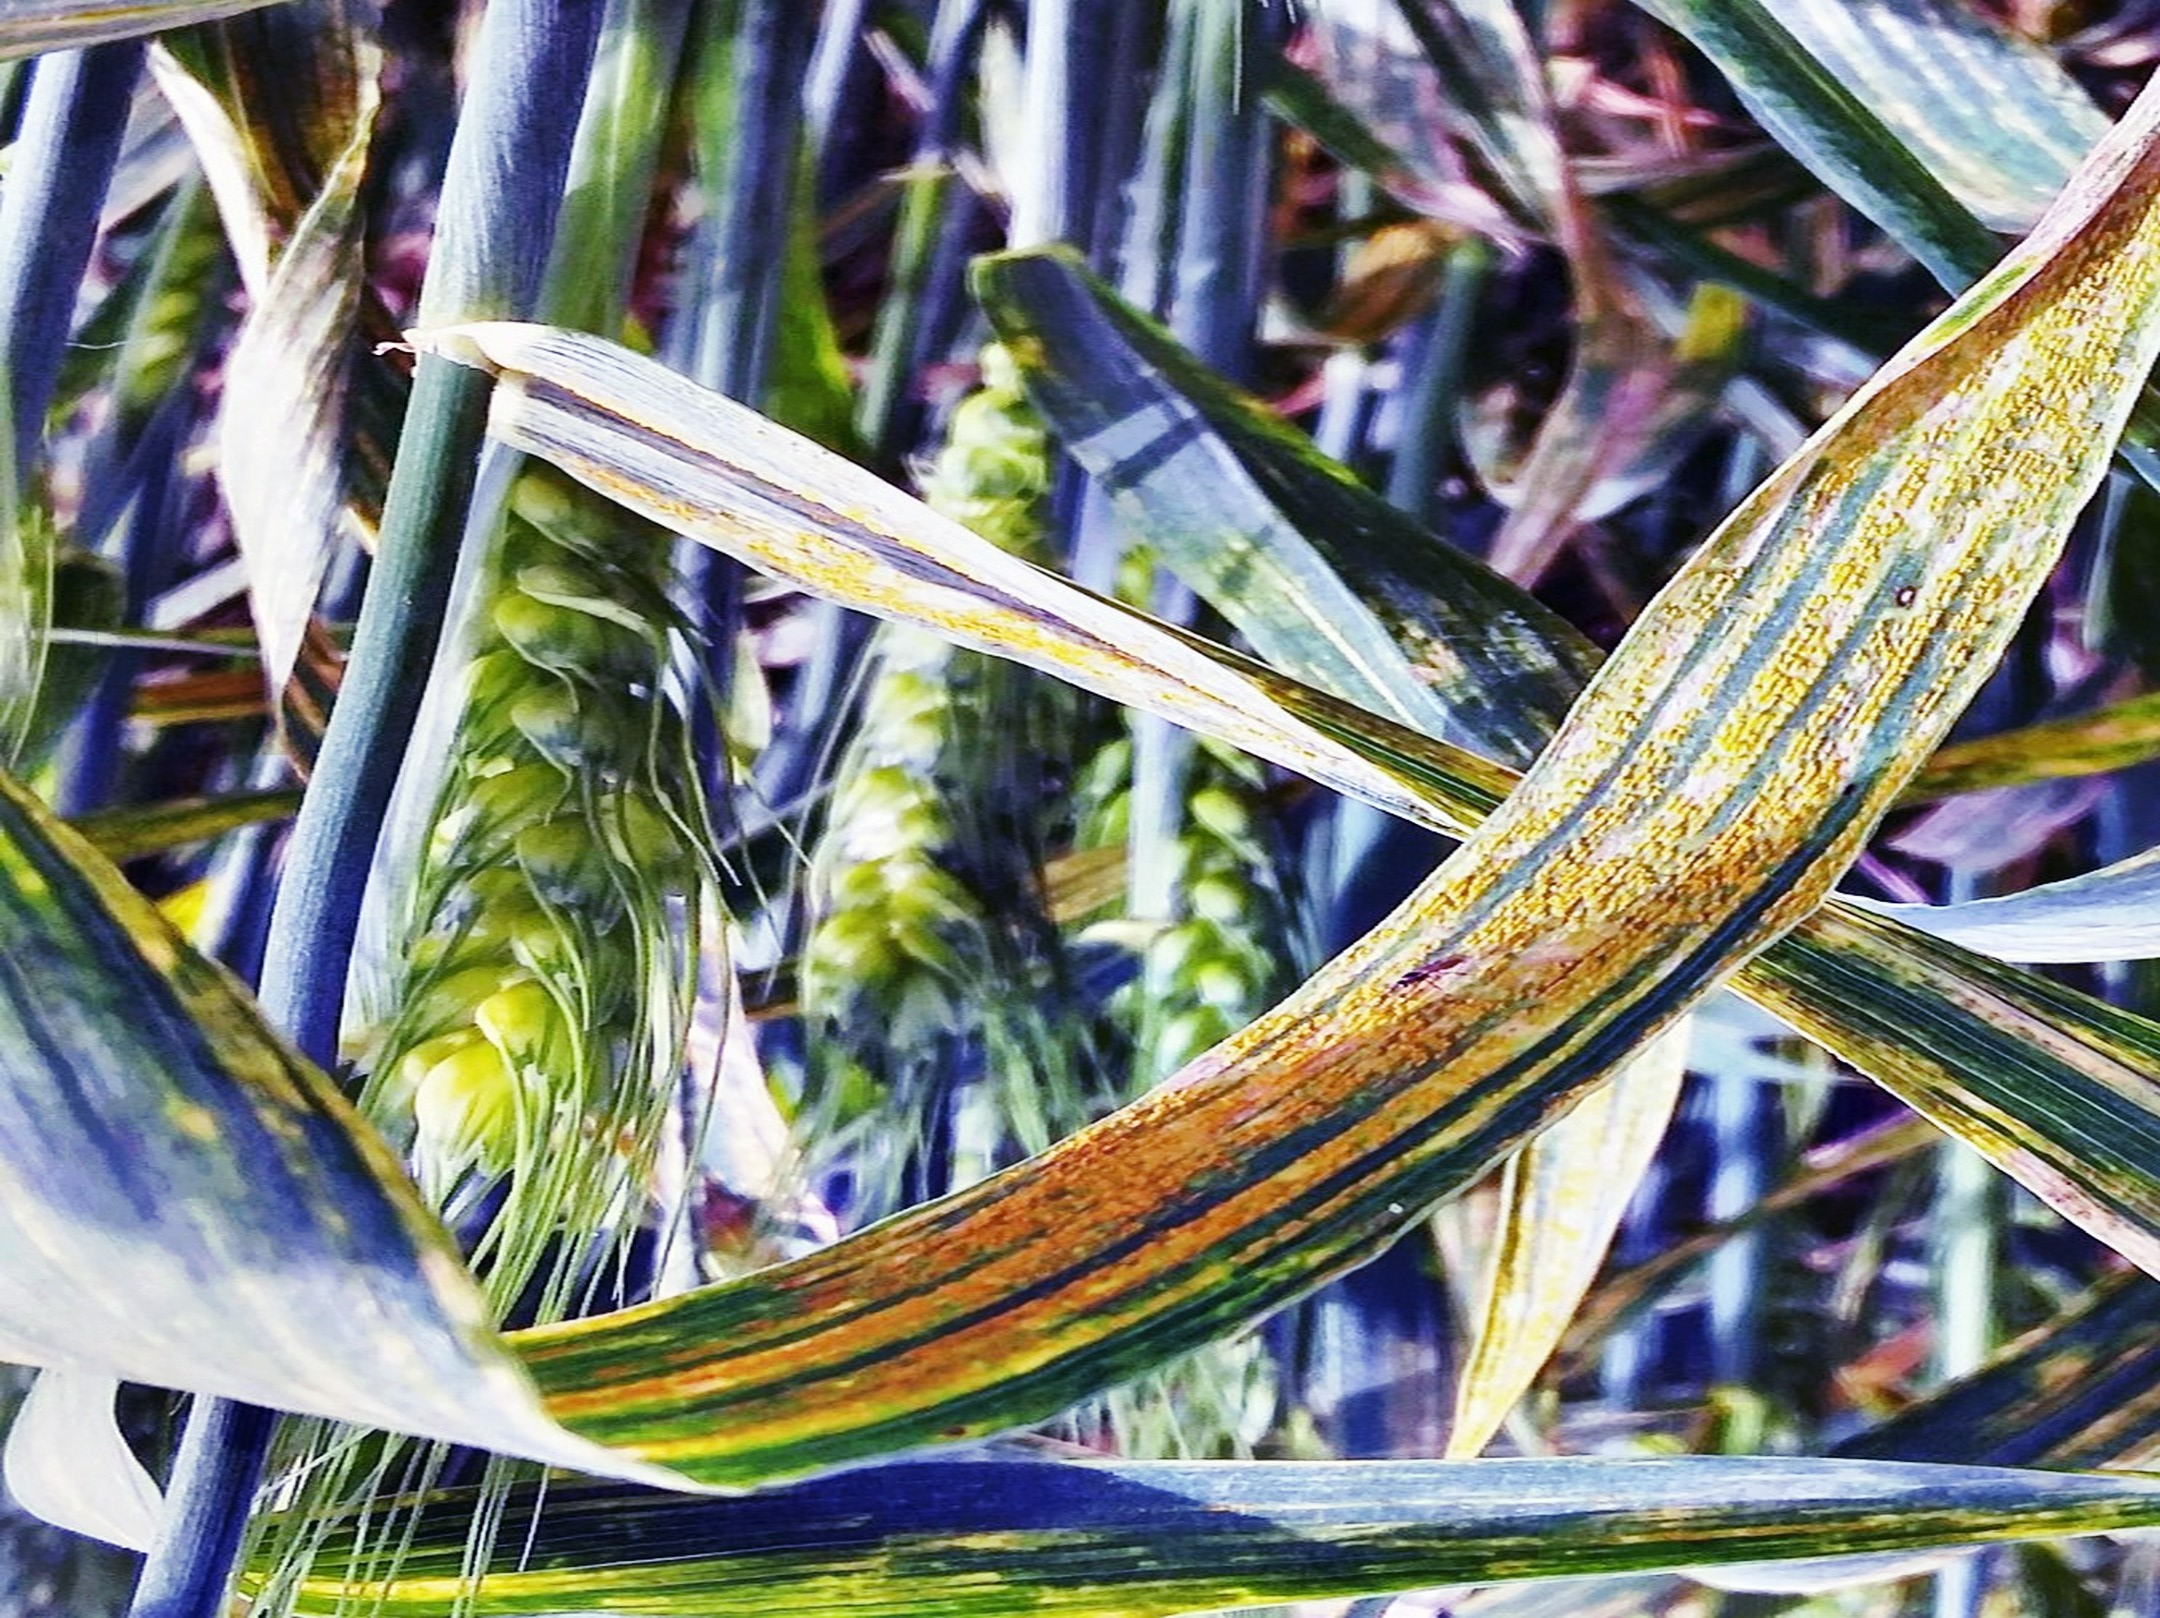Leaf Rust: (943, 342, 2107, 1370)
